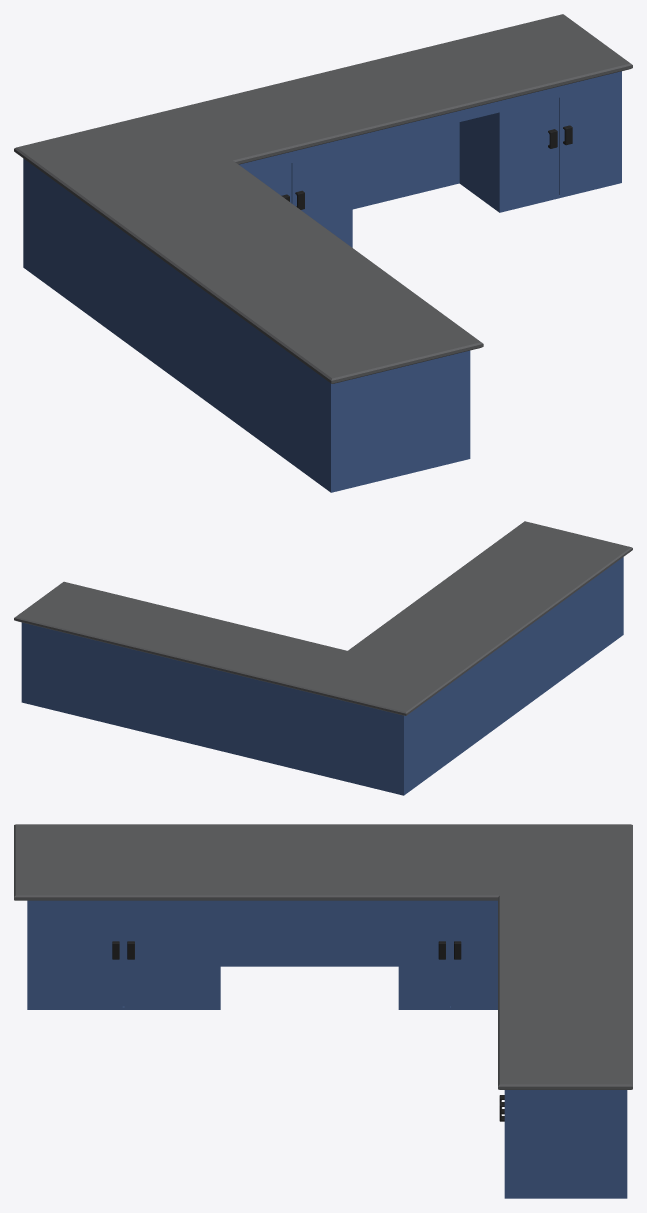
The model's file is Obj_LabTableWedge.fbx.
3 views of the same model, one above another, from view 1: azimuth 30°, elevation 25°; view 2: azimuth 150°, elevation 25°; view 3: azimuth 270°, elevation 25° (orthographic). The views are drawn at different scales.
Visible parts, largest first — view 1: Obj_LabTableWedge; view 2: Obj_LabTableWedge; view 3: Obj_LabTableWedge.
Boxes of the visible parts, x1,y1,x2,y2 form: Obj_LabTableWedge: (14, 14, 632, 492); Obj_LabTableWedge: (14, 521, 632, 795); Obj_LabTableWedge: (14, 824, 632, 1198).
Size of the model in its own units: 7.2 by 1.5 by 7.2.
